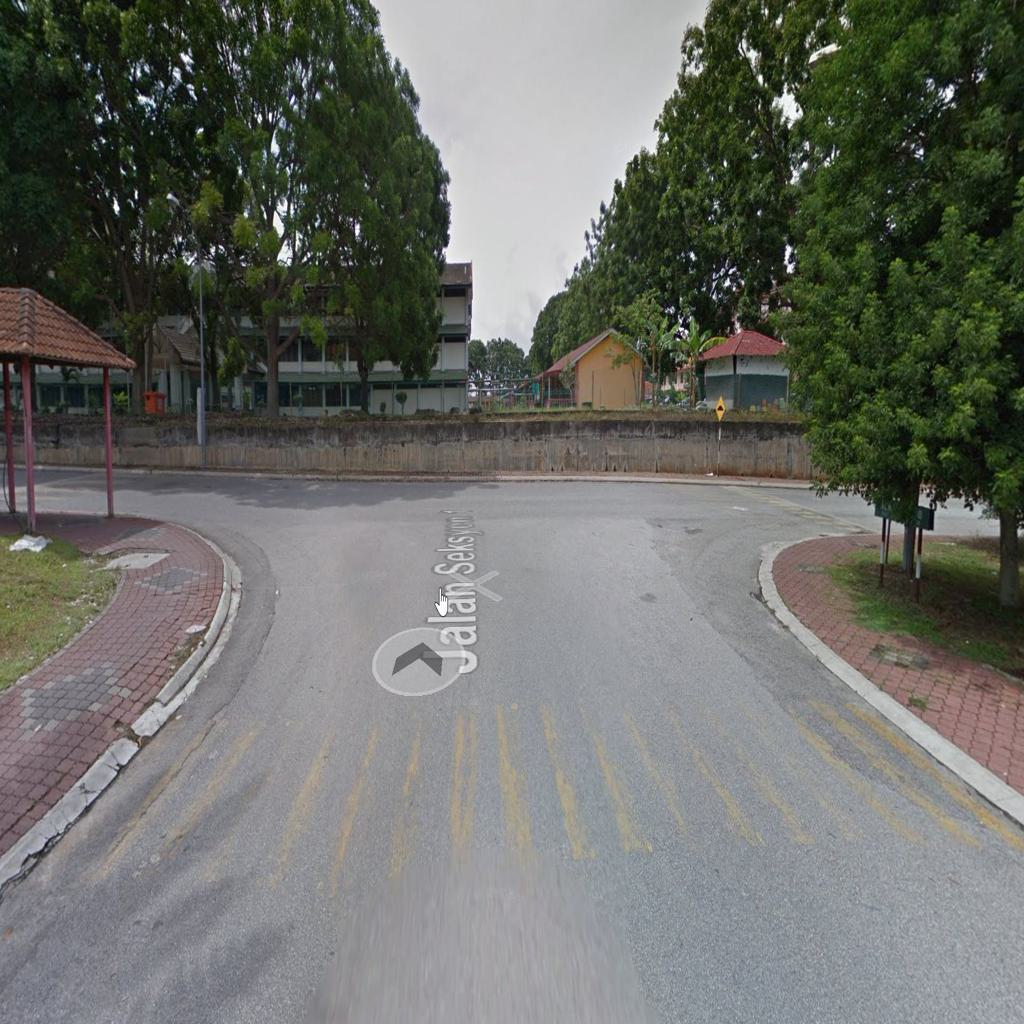Junction: (37, 438, 259, 581), (657, 441, 854, 594)
